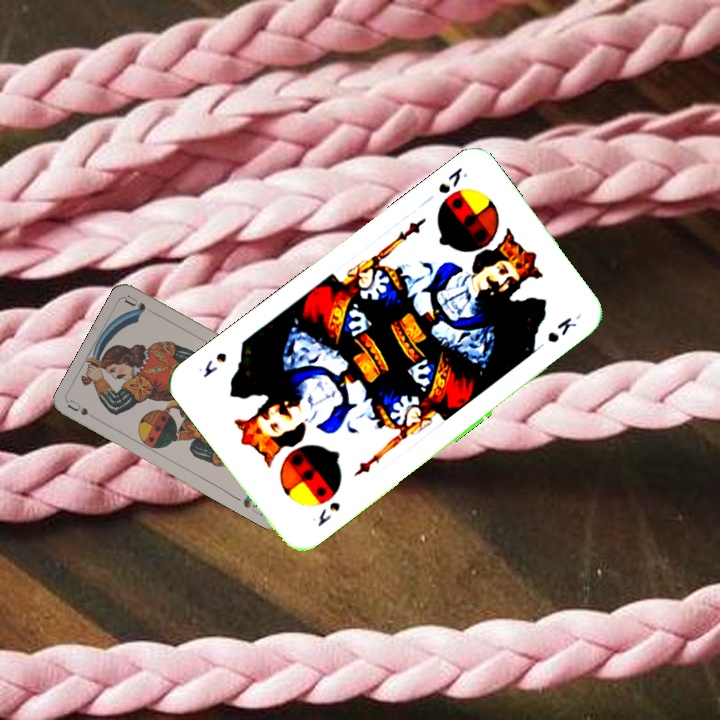SK: (434, 163, 471, 197), (313, 497, 343, 529)
SU: (64, 396, 103, 424)
